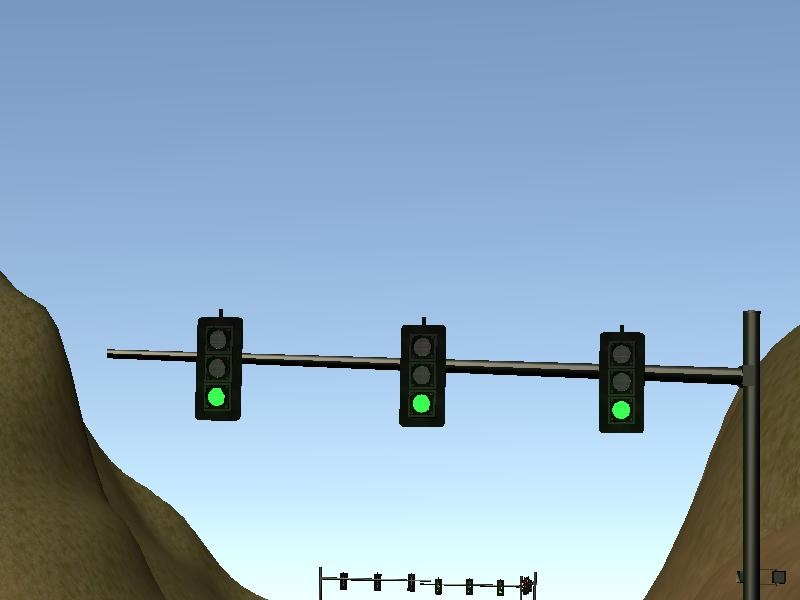green: (596, 327, 654, 437), (192, 308, 243, 423), (397, 317, 447, 434)
